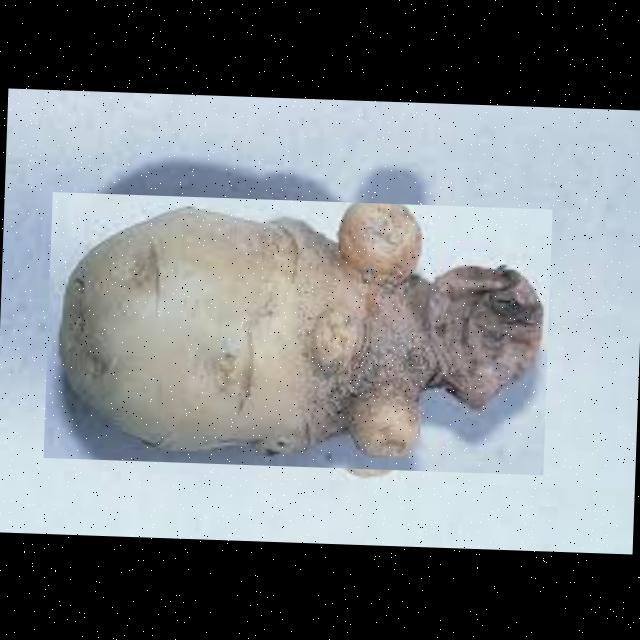Damaged potato: (43, 191, 552, 474)
